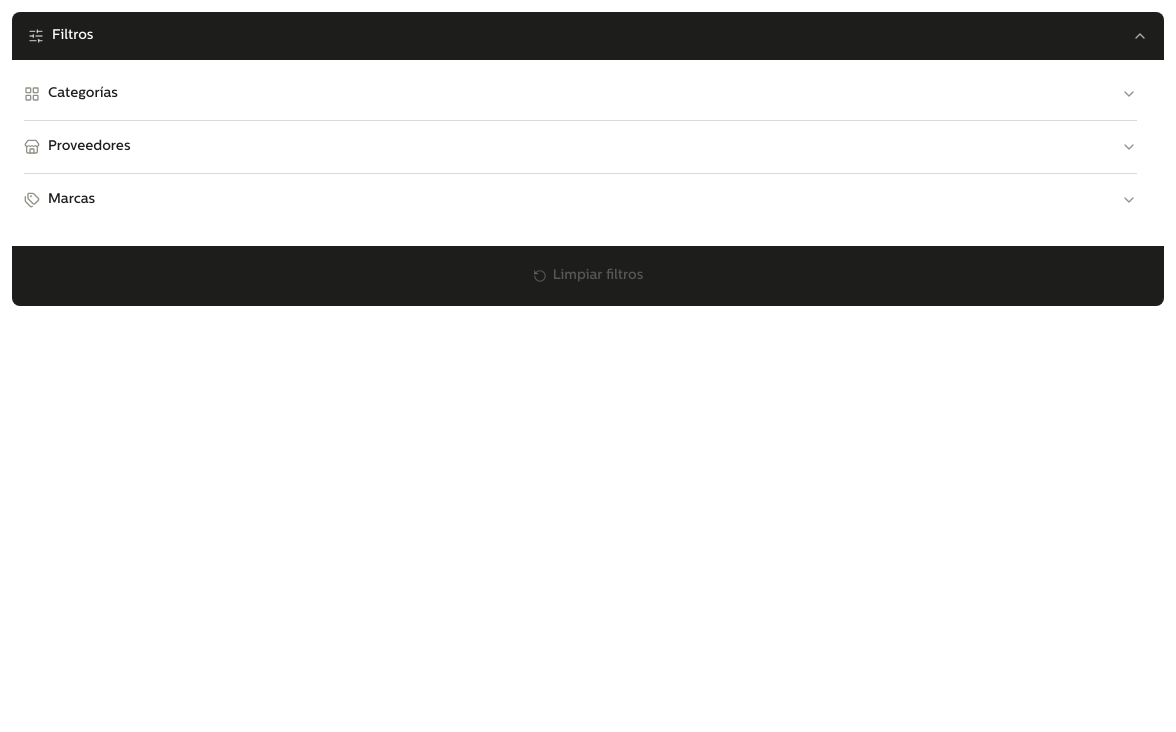
categorías y subcategorías › cambiar de categoría limpia la subcategoría elegida
This screenshot has width=1176, height=732.
Click the button "Categorías": (83, 94) [24, 76, 1137, 112]
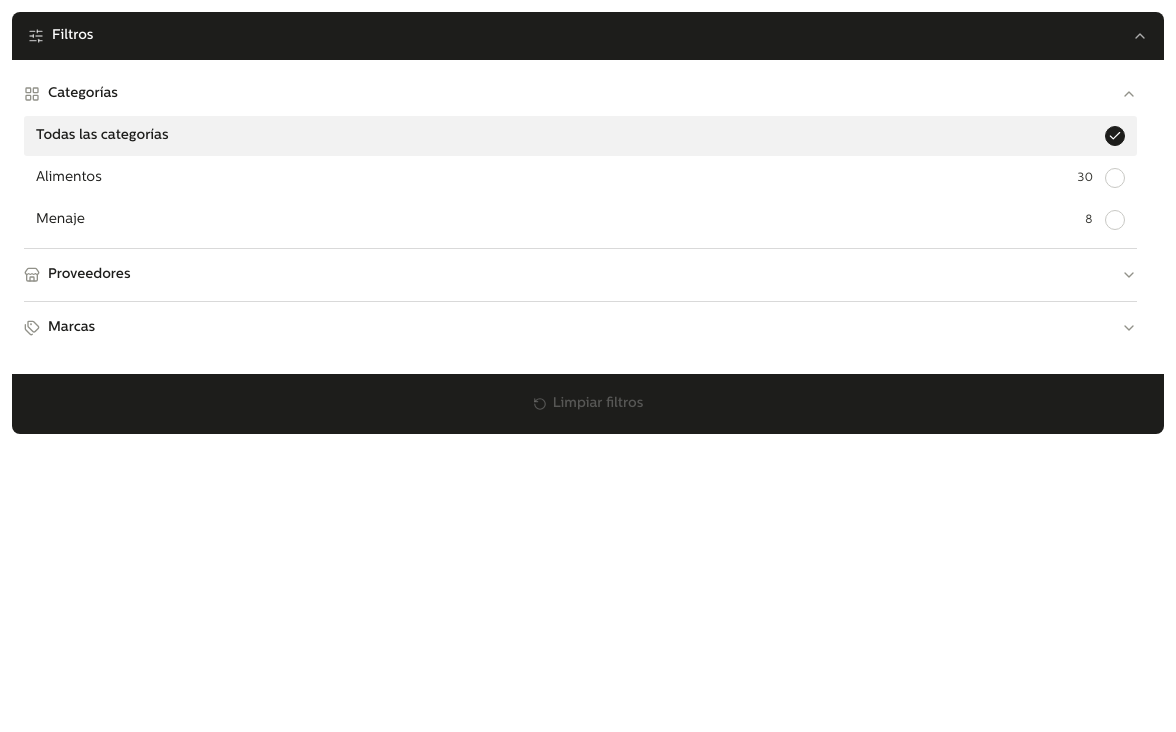
Click the button "Alimentos 30": (69, 178) [24, 158, 1137, 198]
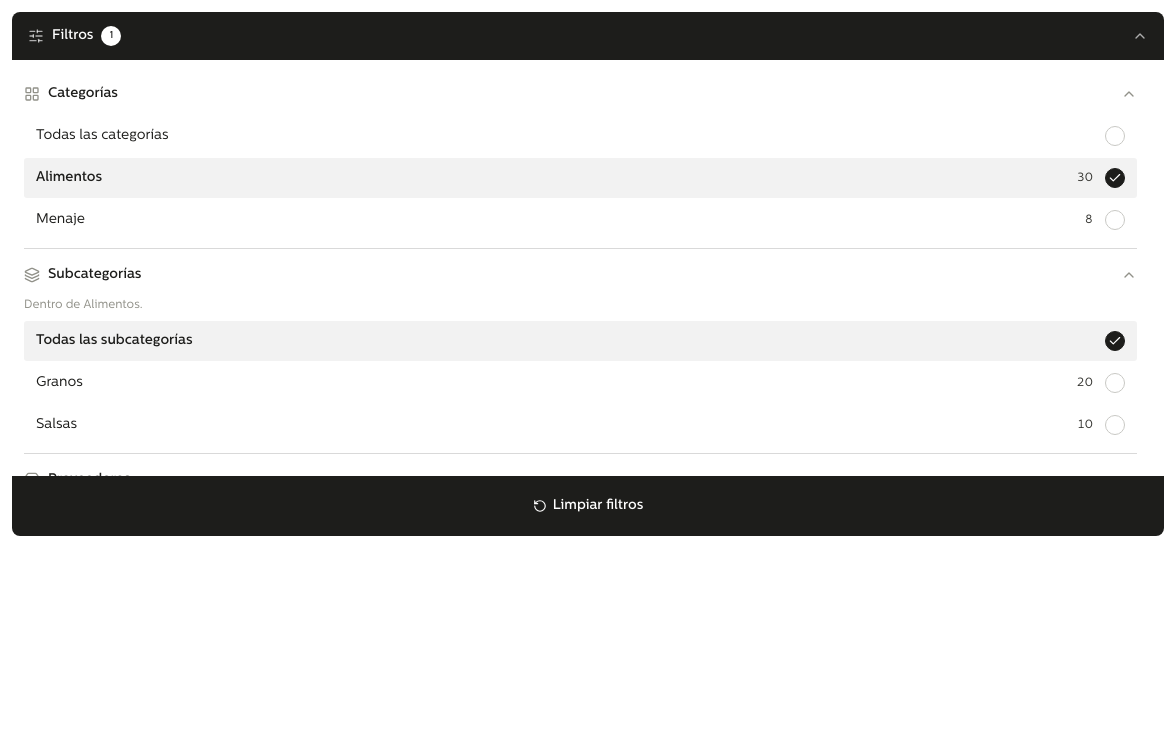
Click the button "Granos 20": (59, 382) [24, 363, 1137, 403]
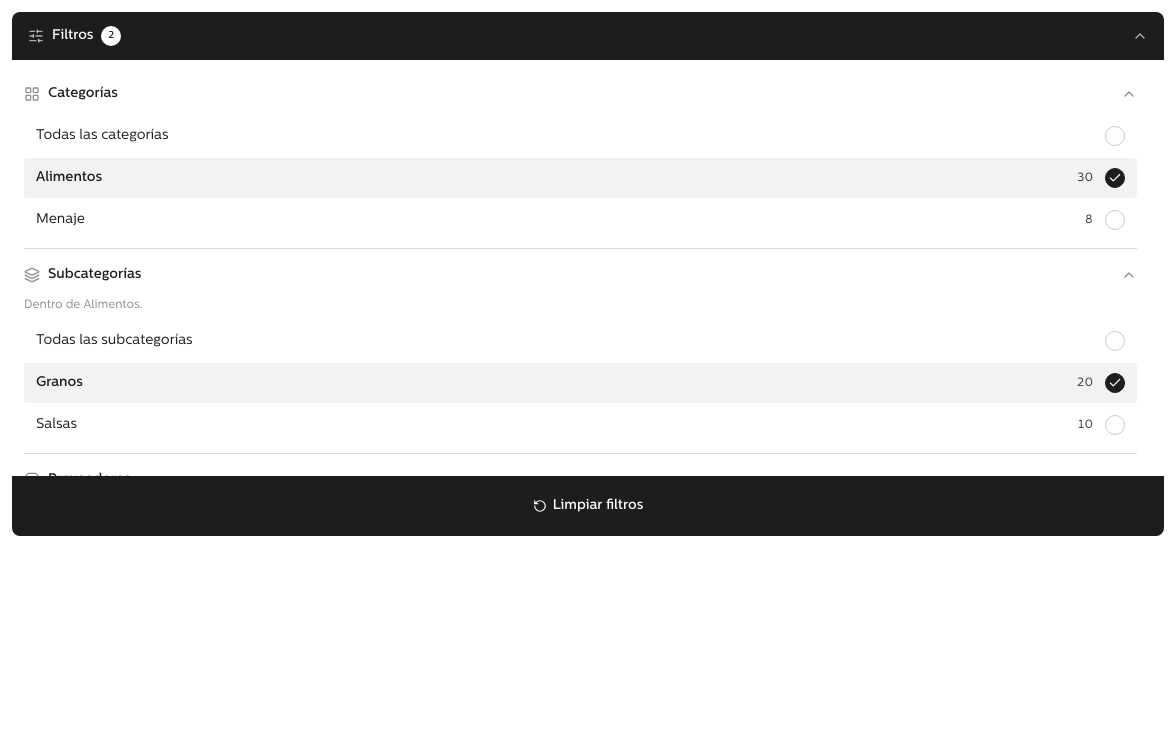
Check: the button "Granos 20" is shown, box [24, 363, 1137, 403]
Click the button "Menaje 8": (60, 220) [24, 200, 1137, 240]
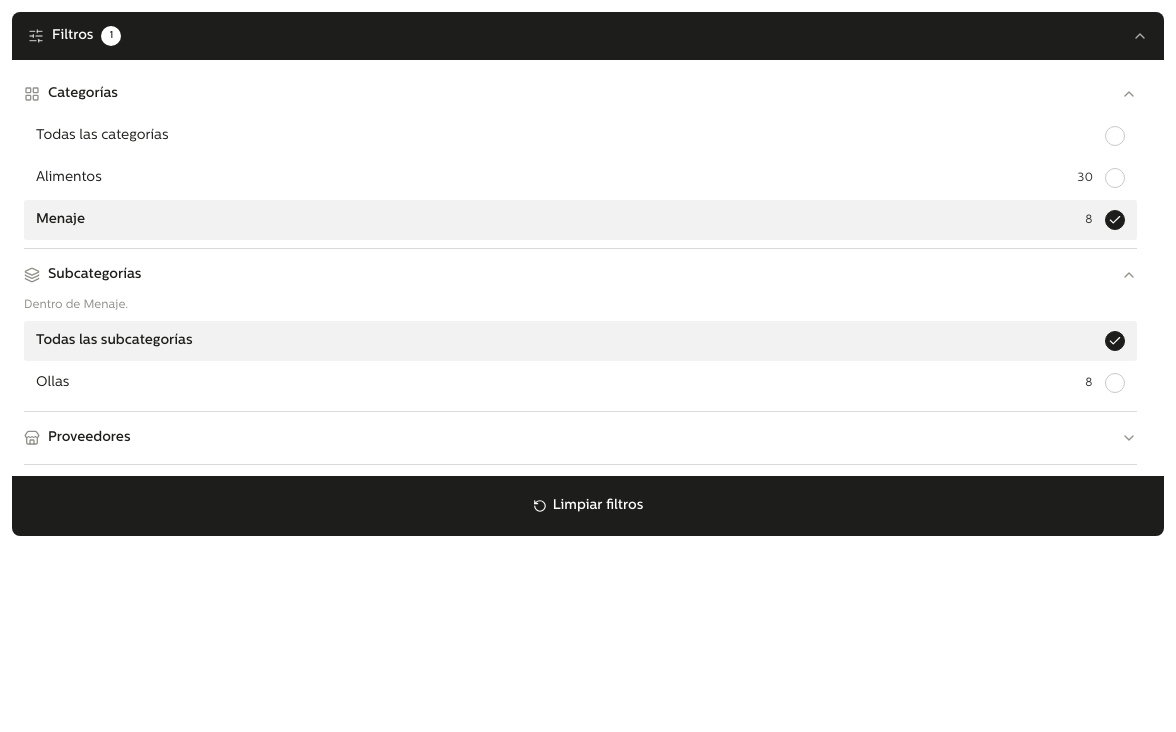
Check: the button "Todas las subcategorías" is shown, box [24, 321, 1137, 361]
Check: the button "Granos" is gone
Check: the button "Ollas 8" is shown, box [24, 363, 1137, 403]
